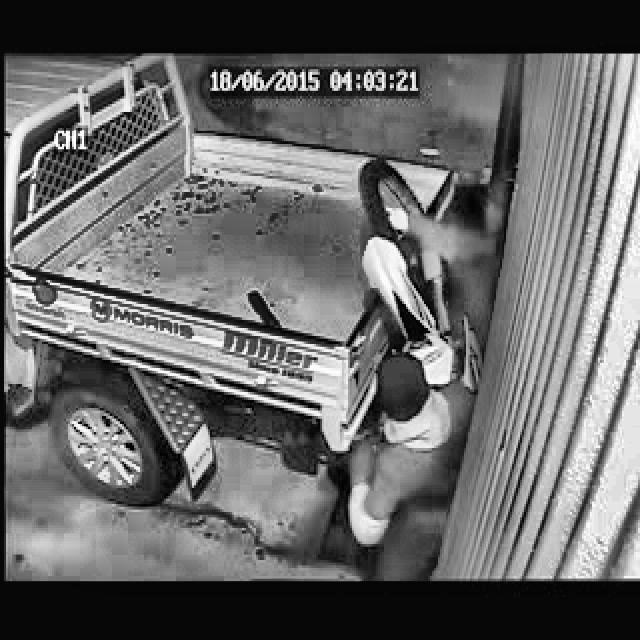burglary: (319, 148, 493, 550)
